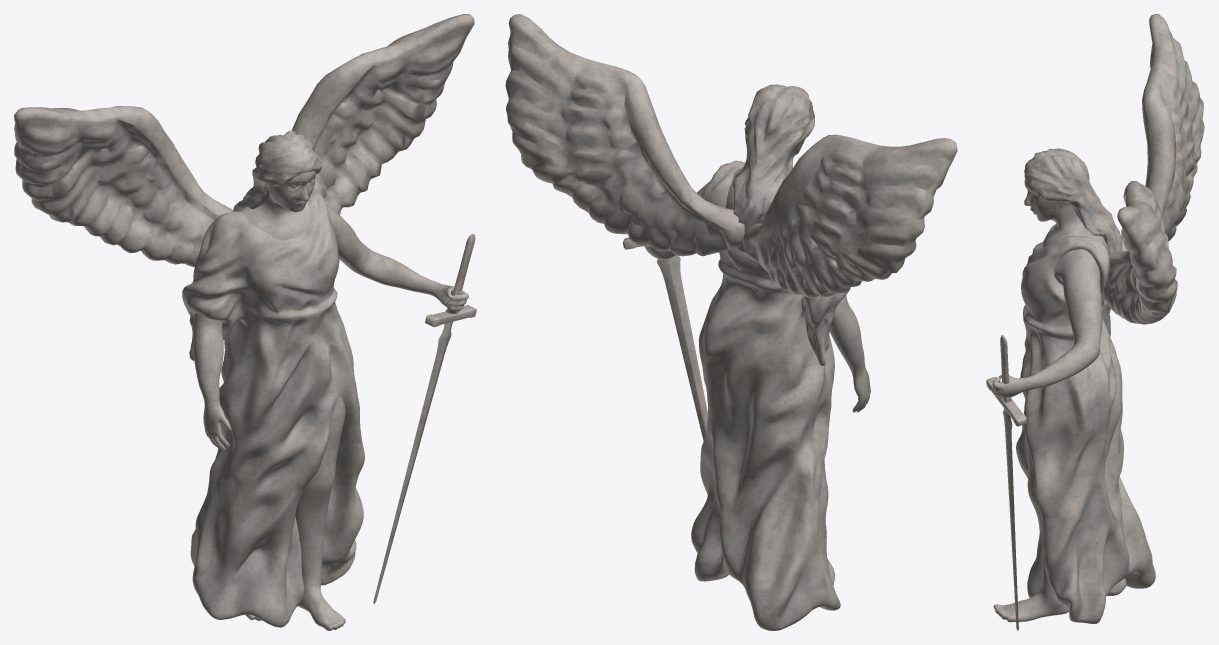
The model's file is Statue_E.fbx.
3 views of the same model, side by side, from view 1: azimuth 30°, elevation 25°; view 2: azimuth 150°, elevation 25°; view 3: azimuth 270°, elevation 25° (orthographic). The views are drawn at different scales.
Parts seen in each view (by area): view 1: Statue_E; view 2: Statue_E; view 3: Statue_E.
Boxes of the visible parts, x1,y1,x2,y2 form: Statue_E: (14, 14, 476, 630); Statue_E: (505, 14, 957, 630); Statue_E: (986, 14, 1204, 630).
Size of the model in its own units: 5.48 by 6.19 by 2.46.
